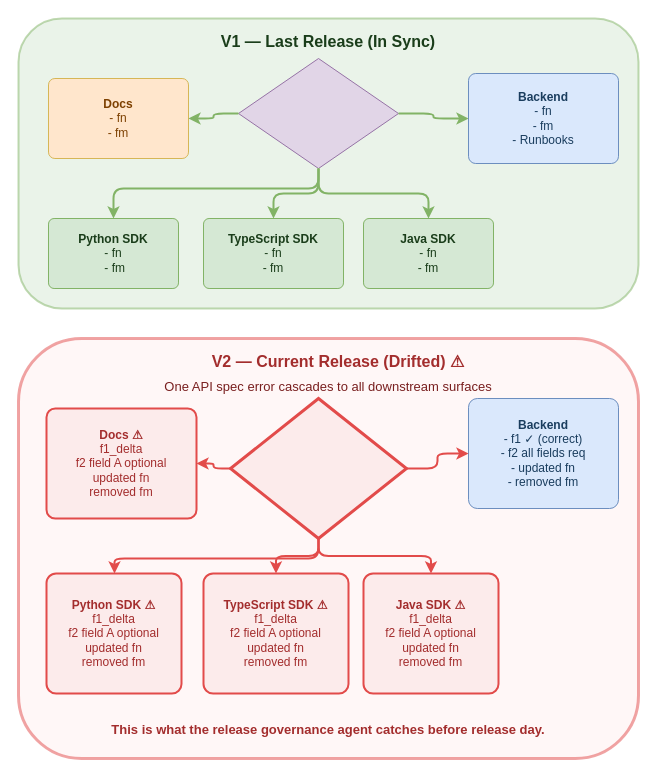
This 657x777 diagram has some shape labels left out. The box of each missing label's shape, as (x1, y1, x2, y2) in pixels:
APIs YAML — fn, fm (OpenAPI generator): (238, 58, 398, 168)
APIs ⚠ f1_delta (ERROR!) f2 field A optional updated fn removed fm: (228, 396, 408, 540)
